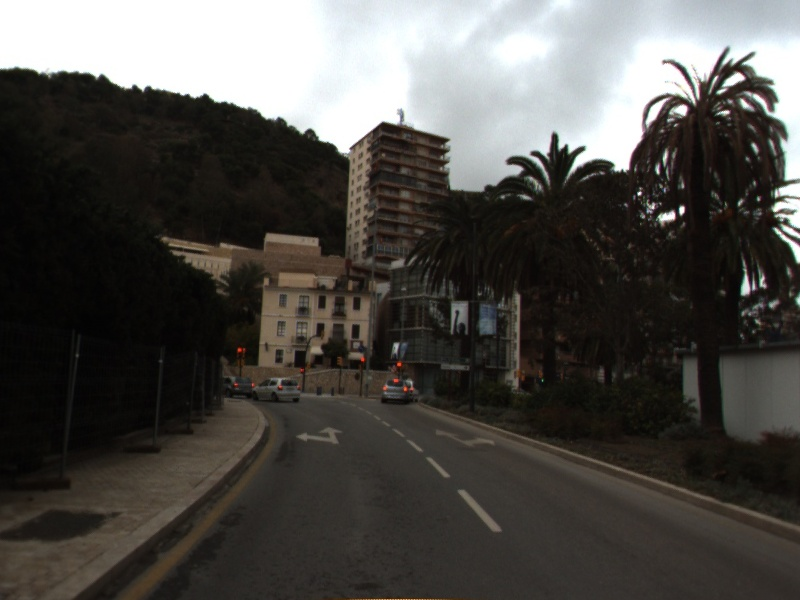STRAIGHT_LEFT: (294, 424, 345, 446)
STRAIGHT_RIGHT: (433, 426, 498, 449)
